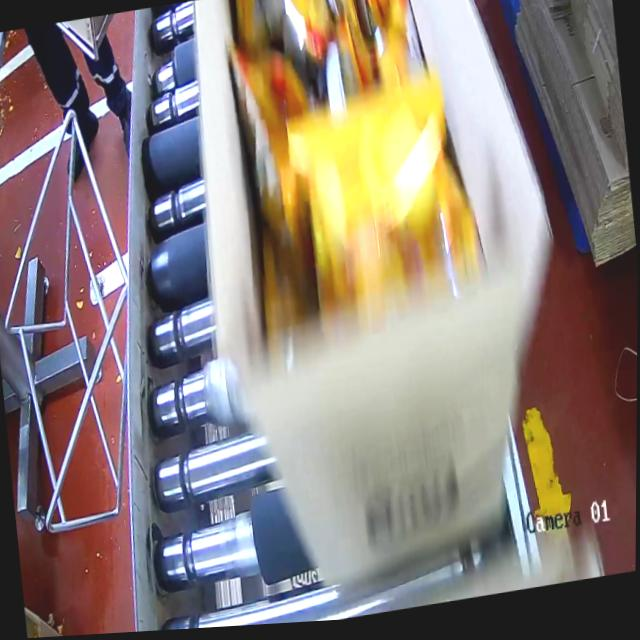FRENCH_CHEESE: (205, 0, 498, 338)
